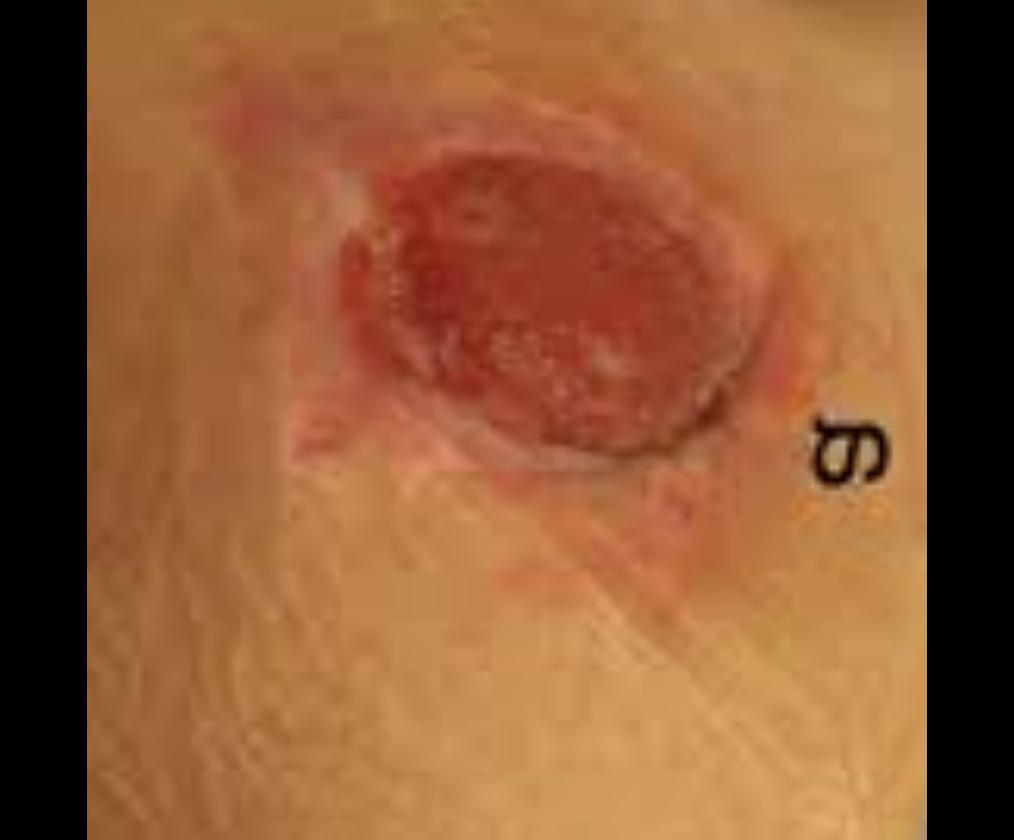Stage2: (319, 53, 817, 479)
